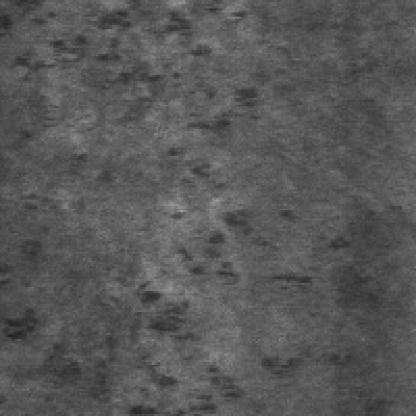rolled-in_scale: (112, 202, 270, 412)
